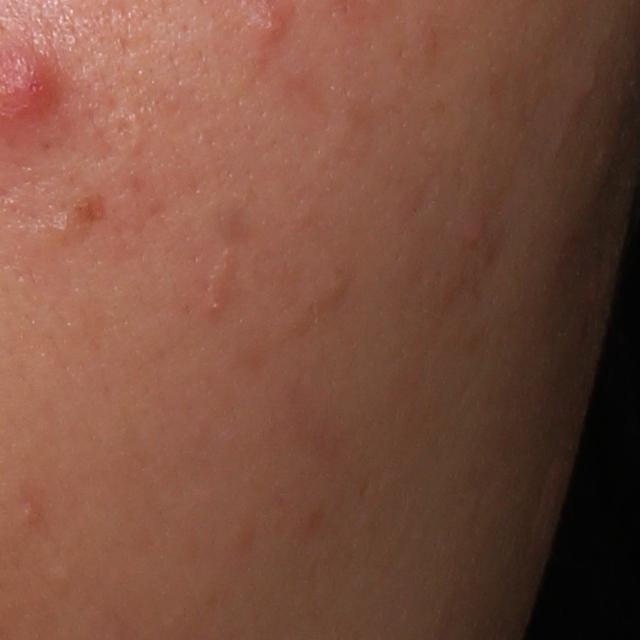comedo: (54, 564, 77, 587)
papule: (459, 211, 492, 250)
